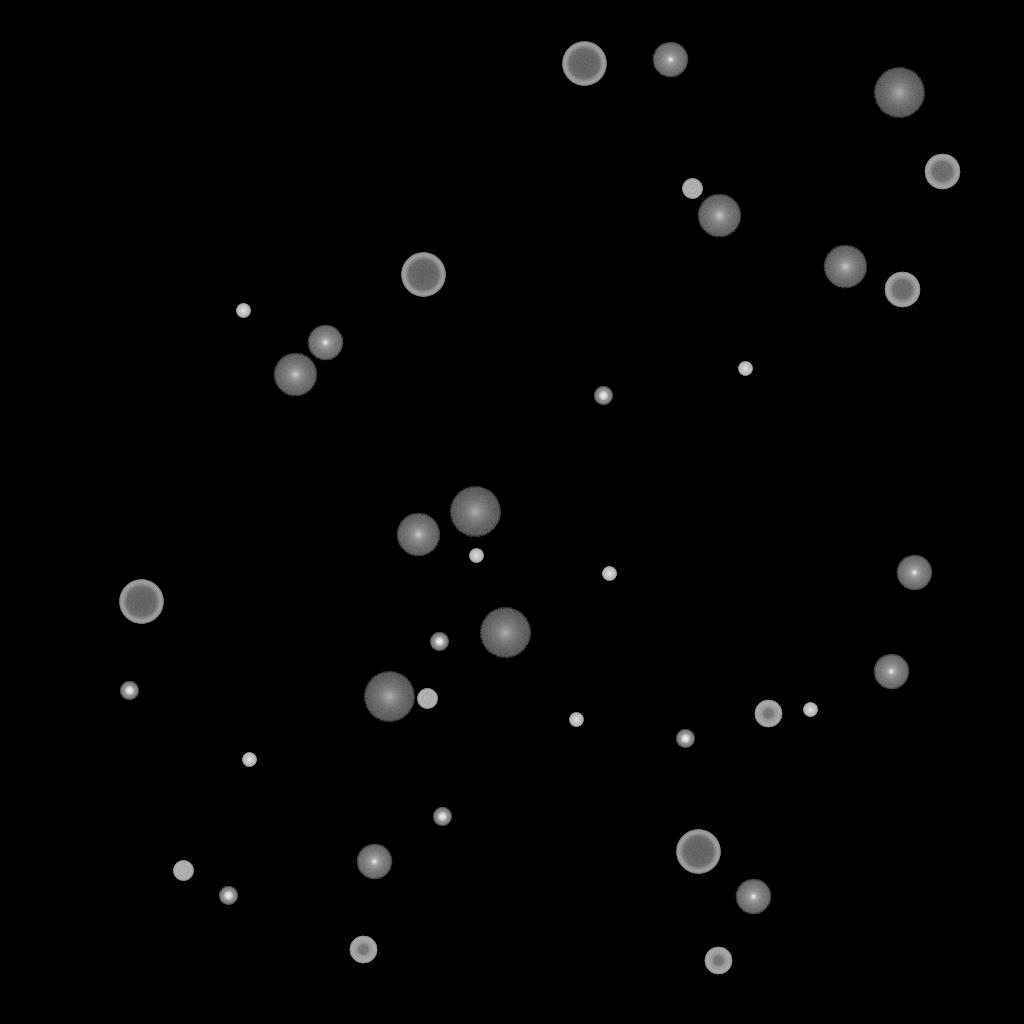depth:-20: (676, 730, 694, 748), (433, 808, 451, 826), (120, 682, 138, 700), (594, 387, 612, 405), (219, 887, 237, 905), (430, 633, 448, 651)
depth:-30: (242, 753, 256, 767), (236, 304, 250, 318), (738, 362, 752, 376), (803, 703, 817, 717), (602, 567, 616, 581), (469, 549, 483, 563), (569, 713, 583, 727)
depth:-40: (682, 179, 702, 199), (417, 689, 437, 709), (173, 861, 193, 881)
depth:-50: (704, 947, 732, 975), (349, 936, 377, 964), (754, 700, 782, 728)
depth:-60: (884, 272, 920, 308), (924, 154, 960, 190)
depth:-70: (676, 830, 720, 874), (119, 580, 163, 624), (401, 253, 445, 297), (562, 42, 606, 86)
depth:0: (652, 42, 688, 78), (873, 654, 909, 690), (896, 555, 932, 591), (307, 325, 343, 361), (735, 879, 771, 915), (356, 844, 392, 880)
depth:10: (273, 353, 317, 397), (697, 194, 741, 238), (823, 245, 867, 289), (396, 513, 440, 557)
depth:20: (873, 68, 925, 118), (449, 487, 501, 537), (363, 672, 415, 722), (479, 608, 531, 658)
